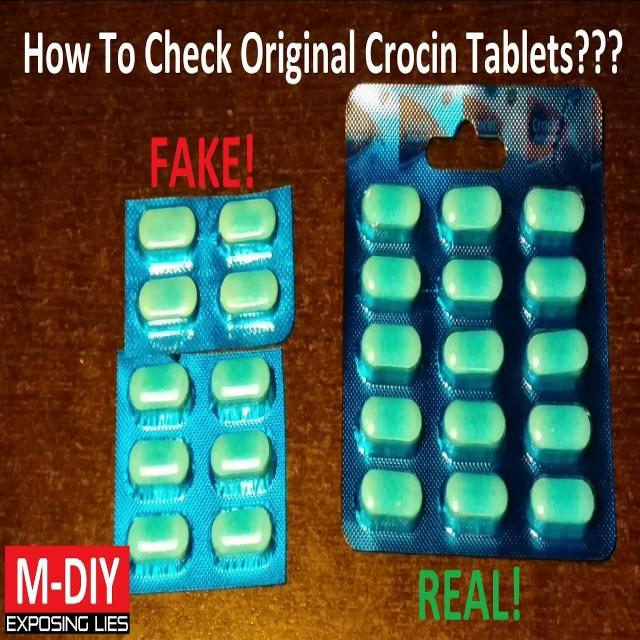authentic: (346, 79, 616, 558)
counterfeit: (114, 336, 289, 588), (118, 188, 296, 346)
